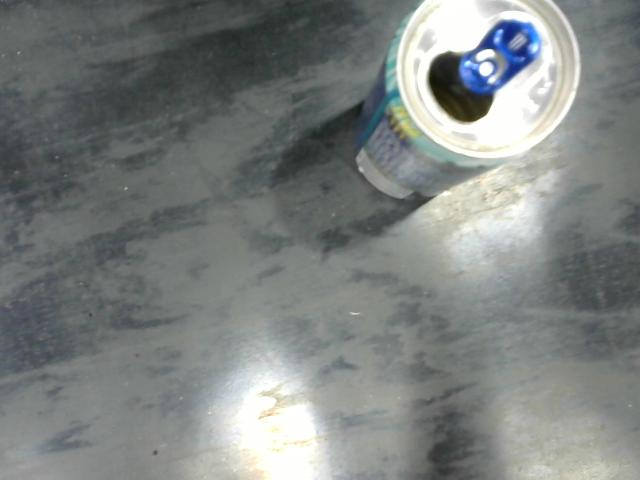can: (351, 0, 586, 203)
